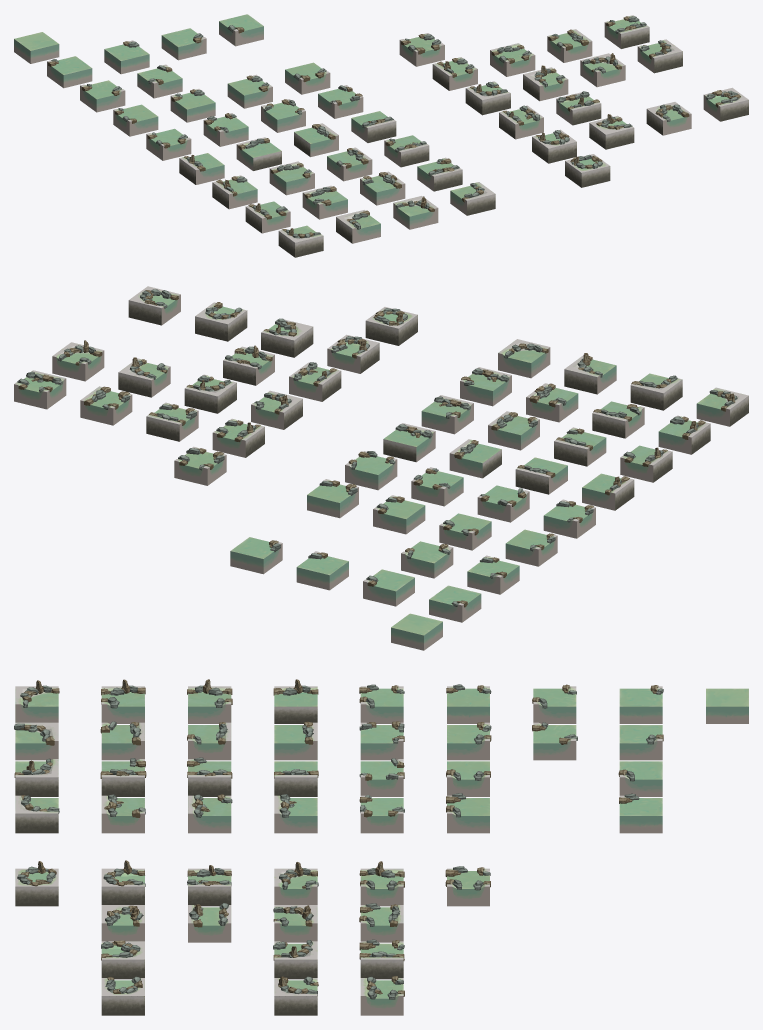
Rendered from Pond.fbx.
3 views of the same model, one above another, from view 1: azimuth 30°, elevation 25°; view 2: azimuth 150°, elevation 25°; view 3: azimuth 270°, elevation 25° (orthographic). The views are drawn at different scales.
Parts seen in each view (by area): view 1: Pond-8, Pond-9, Pond-0, Pond-2, Pond-4, Pond-6, Pond-18, Pond-3, Pond-12, Pond-25, Pond-22, Pond-11 (+35 smaller); view 2: Pond-10, Pond-6, Pond-1, Pond-0, Pond-4, Pond-19, Pond-14, Pond-35, Pond-9, Pond-13, Pond-2, Pond-5 (+35 smaller); view 3: Pond-0, Pond-24, Pond-15, Pond-28, Pond-17, Pond-11, Pond-20, Pond-5, Pond-27, Pond-1, Pond-14, Pond-3 (+35 smaller).
Part boxes in pixels (x1=…): Pond-8: x1=523, y1=65, x2=568, y2=101; Pond-9: x1=580, y1=53, x2=625, y2=87; Pond-0: x1=565, y1=154, x2=610, y2=187; Pond-2: x1=589, y1=114, x2=634, y2=149; Pond-4: x1=703, y1=87, x2=748, y2=121; Pond-6: x1=556, y1=91, x2=601, y2=125; Pond-18: x1=393, y1=196, x2=438, y2=229; Pond-3: x1=646, y1=102, x2=691, y2=135; Pond-12: x1=490, y1=43, x2=535, y2=76; Pond-25: x1=269, y1=161, x2=314, y2=195; Pond-22: x1=360, y1=171, x2=405, y2=205; Pond-11: x1=432, y1=57, x2=477, y2=90; Pond-10: x1=52, y1=340, x2=104, y2=381; Pond-6: x1=223, y1=345, x2=274, y2=385; Pond-1: x1=327, y1=334, x2=379, y2=373; Pond-0: x1=365, y1=307, x2=417, y2=345; Pond-4: x1=128, y1=286, x2=180, y2=325; Pond-19: x1=498, y1=339, x2=550, y2=378; Pond-14: x1=14, y1=370, x2=66, y2=409; Pond-35: x1=345, y1=451, x2=397, y2=490; Pond-9: x1=118, y1=357, x2=170, y2=397; Pond-13: x1=80, y1=386, x2=132, y2=425; Pond-2: x1=261, y1=318, x2=313, y2=357; Pond-5: x1=289, y1=362, x2=341, y2=401; Pond-0: x1=15, y1=861, x2=58, y2=906; Pond-24: x1=187, y1=679, x2=232, y2=723; Pond-15: x1=445, y1=866, x2=490, y2=906; Pond-28: x1=273, y1=679, x2=318, y2=723; Pond-17: x1=14, y1=722, x2=58, y2=760; Pond-11: x1=359, y1=861, x2=404, y2=906; Pond-20: x1=101, y1=679, x2=145, y2=723; Pond-5: x1=187, y1=865, x2=231, y2=906; Pond-27: x1=188, y1=794, x2=232, y2=833; Pond-1: x1=101, y1=860, x2=145, y2=904; Pond-14: x1=360, y1=976, x2=404, y2=1015; Pond-3: x1=101, y1=940, x2=144, y2=979.
Size of the model in its own units: 8530 by 389 by 8517.
4 materials, 4 textured.
